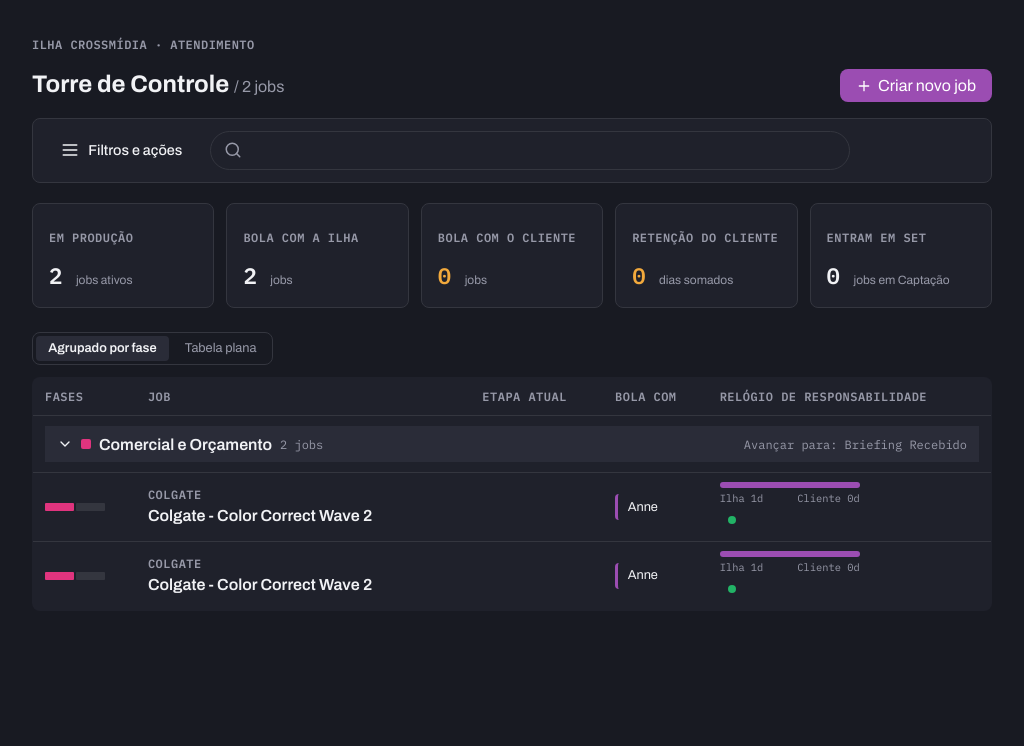
Board › shows an Atendimentos row per active person, counting active and completed jobs together
Expected: the text "Comercial e Orçamento" is shown, [99, 436, 272, 452]
Click the button "Filtros e ações" at (121, 150), box [49, 132, 194, 168]
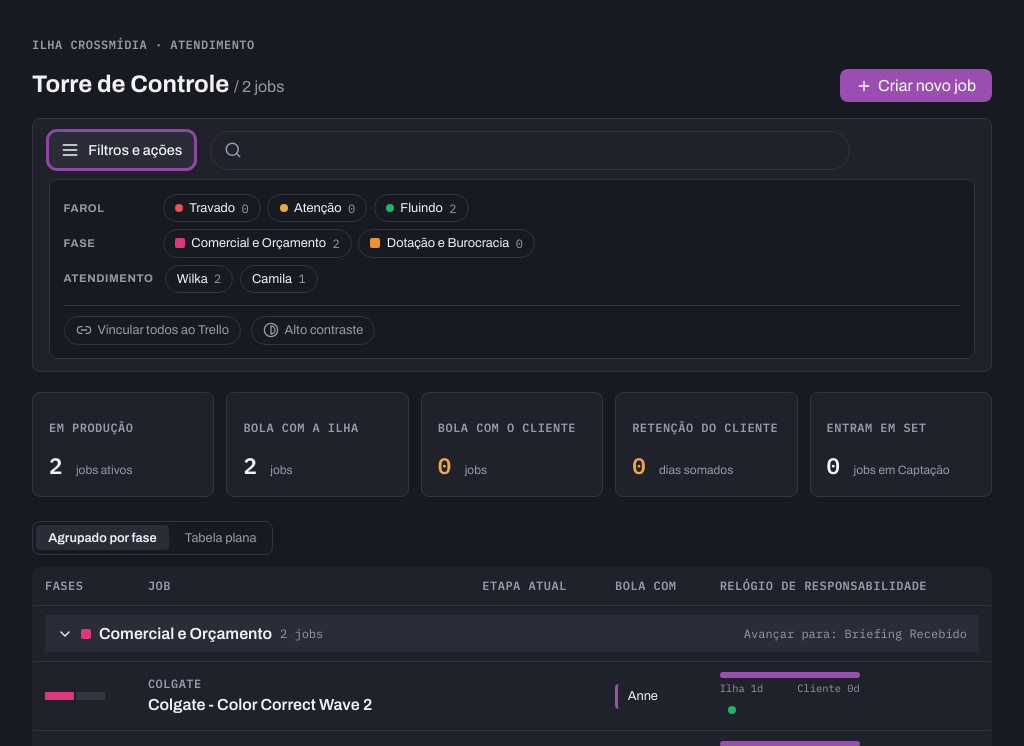
Now the button "Wilka 2" is shown, box [165, 265, 233, 293]
Now the button "Camila 1" is shown, box [240, 265, 318, 293]
